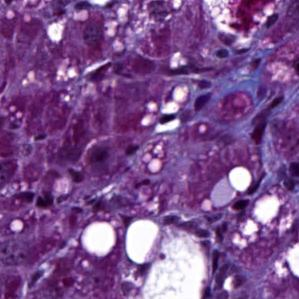ballooning: (133, 222, 215, 296)
